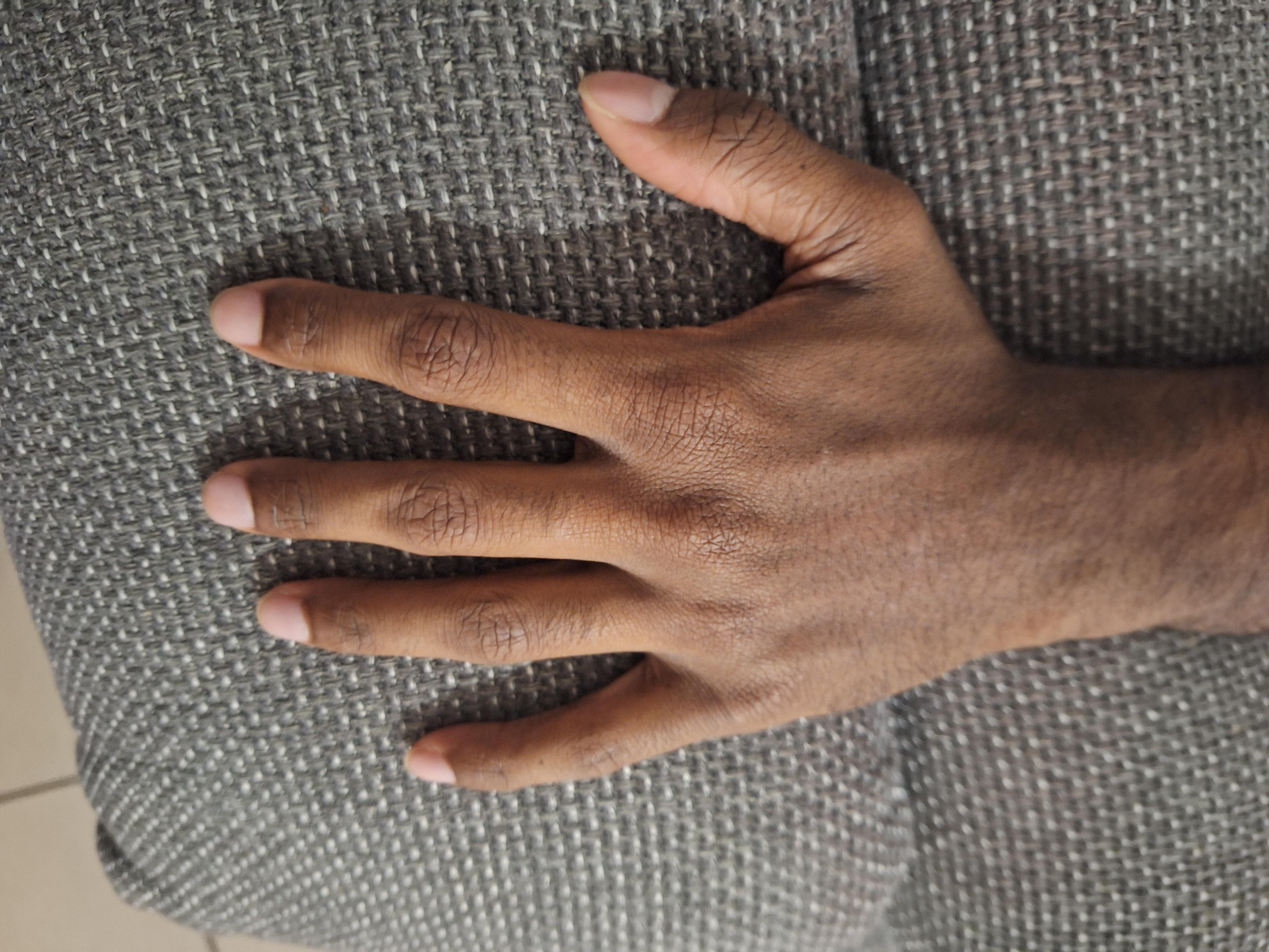Fingernail: (581, 71, 677, 123), (211, 287, 263, 345), (202, 472, 253, 530), (256, 593, 308, 643), (407, 751, 457, 783)
